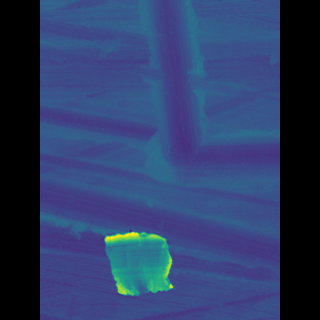Loch: (69, 100, 250, 177), (141, 0, 196, 177), (109, 223, 172, 299)
